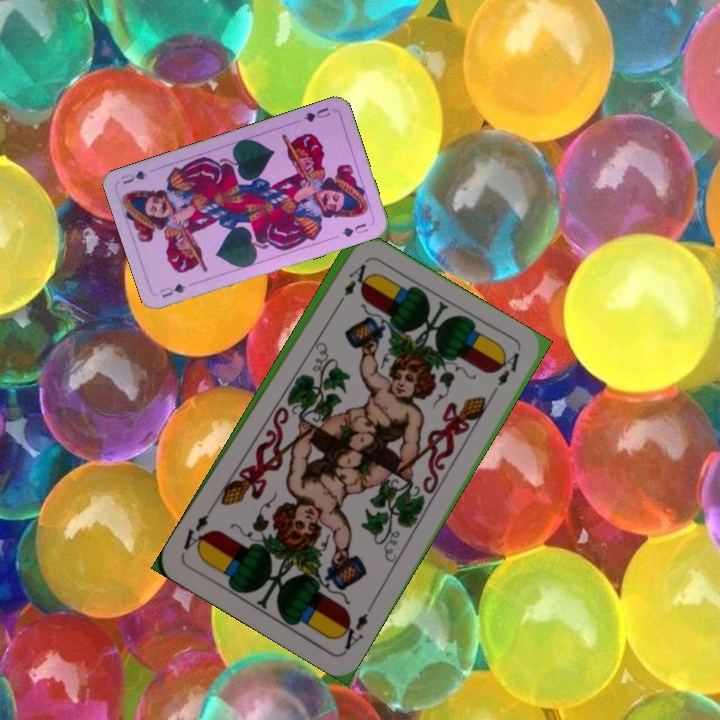EA: (333, 600, 376, 654), (332, 260, 369, 311)
GU: (300, 103, 333, 125), (156, 280, 188, 300)
